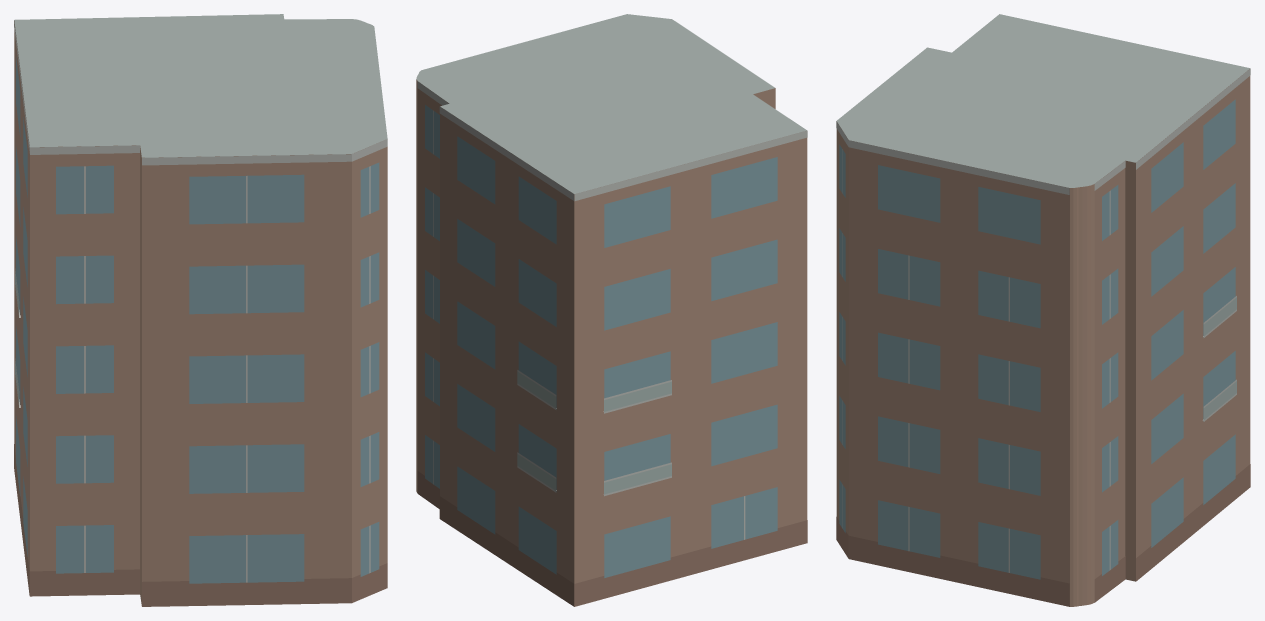
The model's file is survey-upis-32619904.glb.
The picture shows the model from 3 angles, left to right: view 1: azimuth 30°, elevation 25°; view 2: azimuth 150°, elevation 25°; view 3: azimuth 270°, elevation 25°; orthographic projection. The views are drawn at different scales.
Visible parts, largest first — view 1: survey-upis-32619904.tmp; view 2: survey-upis-32619904.tmp; view 3: survey-upis-32619904.tmp.
Part boxes in pixels (bbox=[...]): survey-upis-32619904.tmp: bbox=[14, 14, 387, 606]; survey-upis-32619904.tmp: bbox=[416, 14, 807, 606]; survey-upis-32619904.tmp: bbox=[836, 14, 1250, 606].
Bounding box in the file's own units: 12.66 × 14.2 × 12.73.
